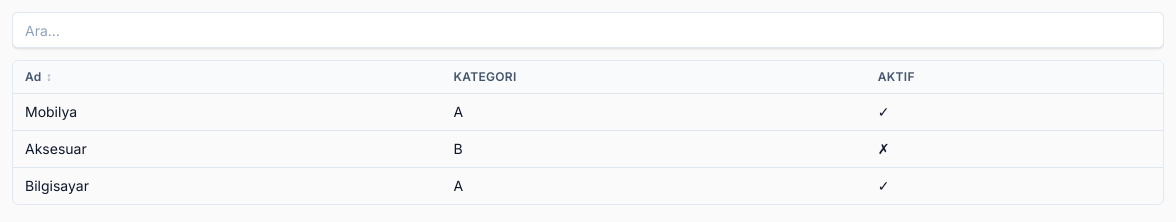
ModuleList › 4. Search debounced → filtered list
Step 1. Type "Mob" into the field → (588, 30), box [12, 12, 1164, 48]
Wait 350 ms
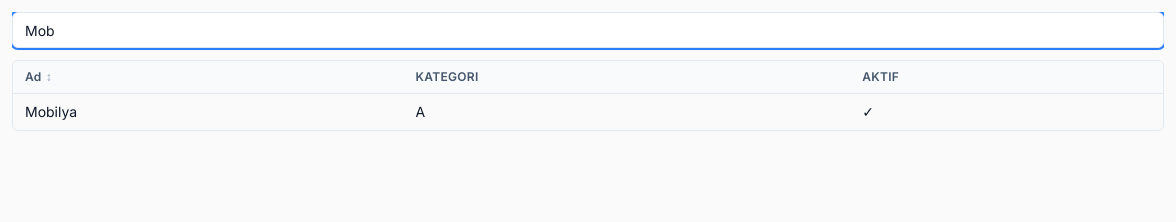
Expected: the button "Mobilya" is shown, [25, 102, 77, 122]
Now the button "Aksesuar" is gone
